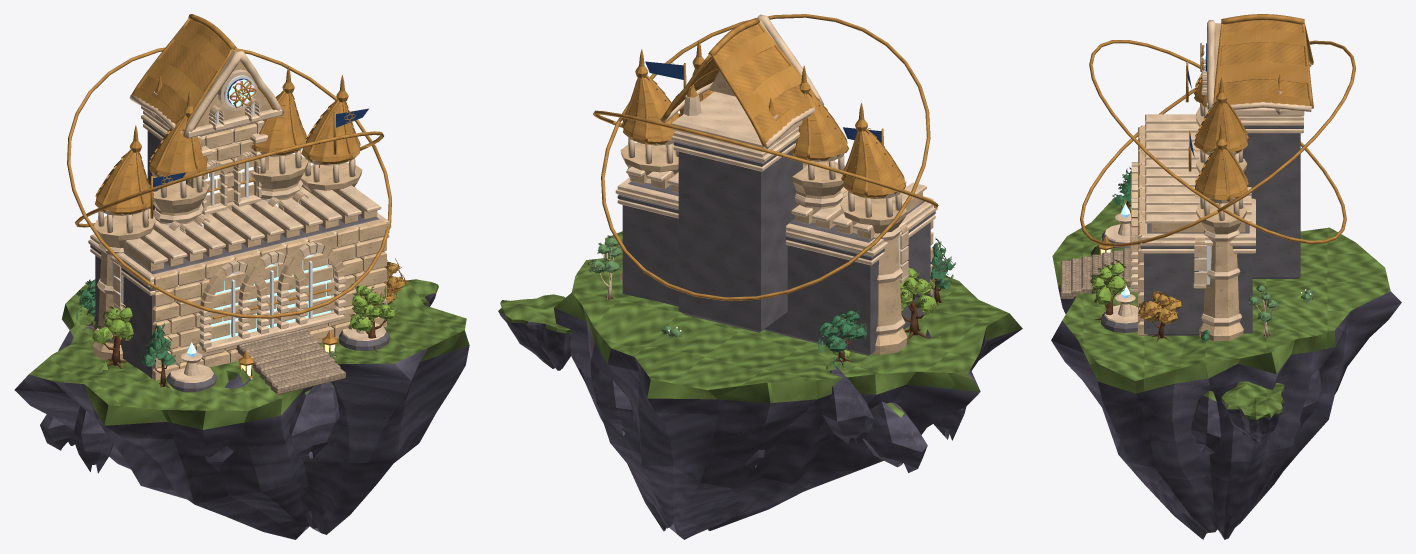
Rendered from island-5-low.glb.
3 views of the same model, side by side, from view 1: azimuth 30°, elevation 25°; view 2: azimuth 150°, elevation 25°; view 3: azimuth 270°, elevation 25° (orthographic). The views are drawn at different scales.
Parts seen in each view (by area): view 1: Stratified cliffs and meadow / cliff, Architecture / stone, Architecture / trim, Architecture / gold, Stratified cliffs and meadow / top, Architecture / joint, Architecture / paving, Canopy oak / leaves, Canopy oak / sprays, Architecture / iron, Architecture / azure_glass, Canopy oak / wood (+1 smaller); view 2: Stratified cliffs and meadow / cliff, Architecture / joint, Stratified cliffs and meadow / top, Architecture / gold, Architecture / trim, Architecture / stone, Canopy oak / leaves, Canopy oak / sprays, Canopy oak / wood, Architecture / cloth; view 3: Stratified cliffs and meadow / cliff, Stratified cliffs and meadow / top, Architecture / gold, Architecture / trim, Architecture / joint, Architecture / stone, Canopy oak / leaves, Architecture / paving, Canopy oak / sprays.
Part boxes in pixels (x1=…): Stratified cliffs and meadow / cliff: x1=14, y1=293, x2=469, y2=539; Architecture / stone: x1=92, y1=50, x2=386, y2=380; Architecture / trim: x1=88, y1=50, x2=391, y2=382; Architecture / gold: x1=67, y1=14, x2=391, y2=378; Stratified cliffs and meadow / top: x1=29, y1=279, x2=469, y2=429; Architecture / joint: x1=90, y1=120, x2=389, y2=392; Architecture / paving: x1=236, y1=328, x2=345, y2=394; Canopy oak / leaves: x1=76, y1=262, x2=404, y2=366; Canopy oak / sprays: x1=76, y1=258, x2=408, y2=365; Architecture / iron: x1=120, y1=102, x2=333, y2=379; Architecture / azure_glass: x1=210, y1=79, x2=330, y2=341; Canopy oak / wood: x1=82, y1=265, x2=398, y2=388; Stratified cliffs and meadow / cliff: x1=498, y1=308, x2=1021, y2=539; Architecture / joint: x1=617, y1=139, x2=935, y2=355; Stratified cliffs and meadow / top: x1=498, y1=231, x2=1022, y2=417; Architecture / gold: x1=593, y1=14, x2=938, y2=300; Architecture / trim: x1=600, y1=14, x2=937, y2=334; Architecture / stone: x1=620, y1=20, x2=933, y2=354; Canopy oak / leaves: x1=590, y1=237, x2=952, y2=368; Canopy oak / sprays: x1=588, y1=235, x2=955, y2=358; Canopy oak / wood: x1=605, y1=248, x2=951, y2=367; Architecture / cloth: x1=645, y1=61, x2=881, y2=142; Stratified cliffs and meadow / cliff: x1=1051, y1=239, x2=1401, y2=539; Stratified cliffs and meadow / top: x1=1052, y1=197, x2=1401, y2=419; Architecture / gold: x1=1080, y1=14, x2=1355, y2=291; Architecture / trim: x1=1104, y1=20, x2=1311, y2=336; Architecture / joint: x1=1101, y1=125, x2=1303, y2=335; Architecture / stone: x1=1131, y1=23, x2=1247, y2=340; Canopy oak / leaves: x1=1092, y1=170, x2=1312, y2=340; Architecture / paving: x1=1060, y1=248, x2=1130, y2=298; Canopy oak / sprays: x1=1090, y1=167, x2=1315, y2=342.
Size of the model in its own units: 6.92 by 7.65 by 5.
Materials: 20 (11 with a texture image).
